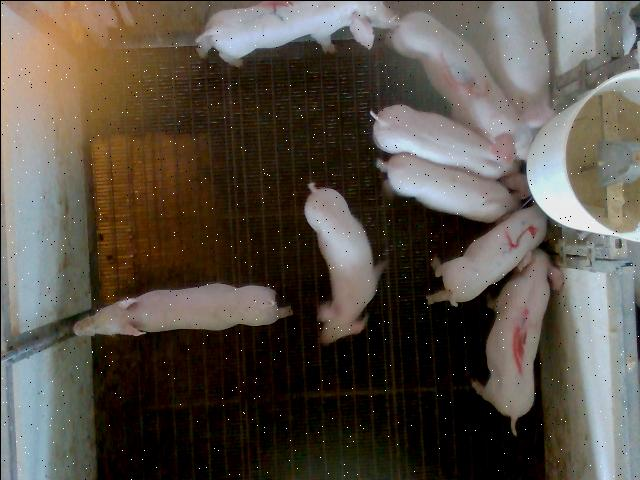pig-1: (471, 248, 561, 434)
pig-3: (390, 11, 552, 162)
pig-5: (428, 204, 545, 304)
